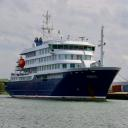cruises: (5, 25, 124, 105)
